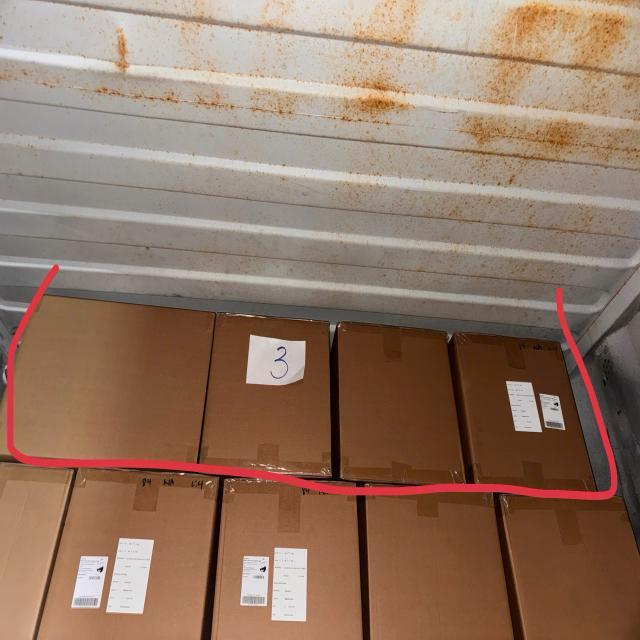Carton: (3, 292, 220, 464), (456, 333, 596, 492), (208, 314, 334, 480), (336, 323, 460, 486)
